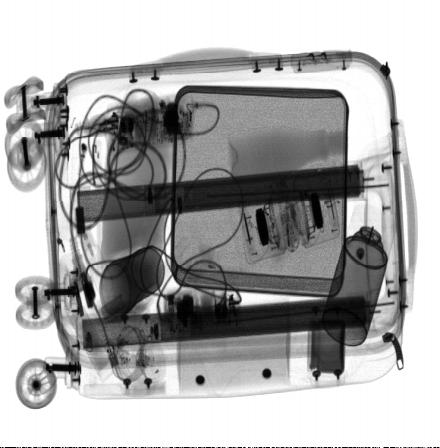Sprayer: (322, 204, 395, 346)
